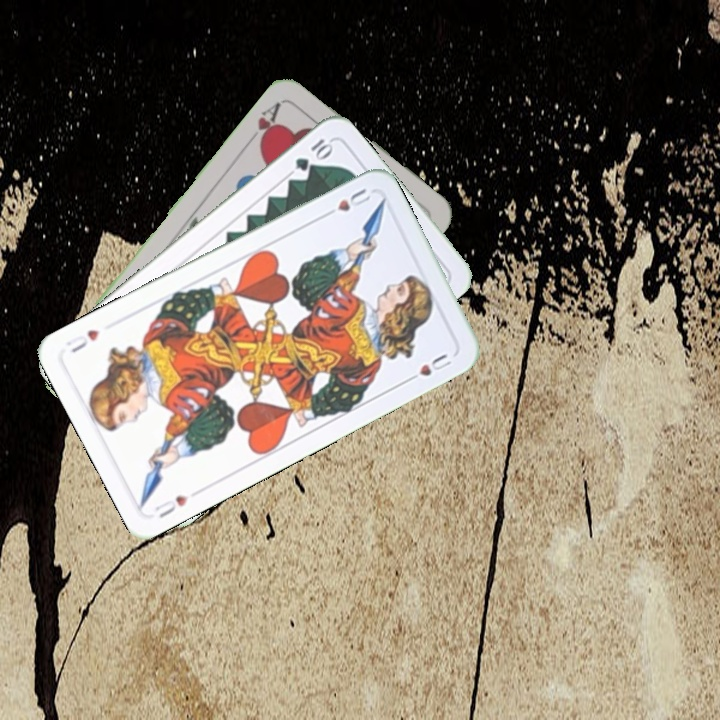G10: (291, 134, 335, 174)
HA: (253, 98, 284, 151)
HU: (318, 184, 374, 221), (151, 491, 191, 521)
